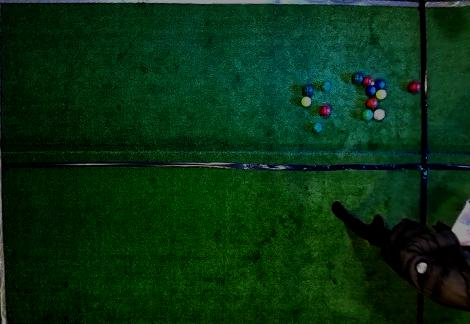blue: (365, 85, 377, 96), (375, 79, 387, 89)
green: (361, 109, 373, 122), (302, 84, 314, 96), (351, 73, 363, 84), (321, 81, 332, 92), (312, 123, 322, 133)
red: (408, 81, 421, 93), (366, 97, 378, 109), (374, 109, 386, 121), (319, 105, 331, 116), (361, 76, 372, 87)
vline: (417, 1, 470, 323), (0, 1, 12, 323)
white: (371, 81, 375, 85)
yellow: (375, 89, 387, 100), (300, 96, 312, 107)
